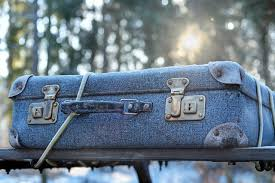suitcase: (8, 60, 275, 148)
